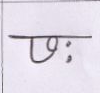anusvara: (66, 41, 71, 46)
